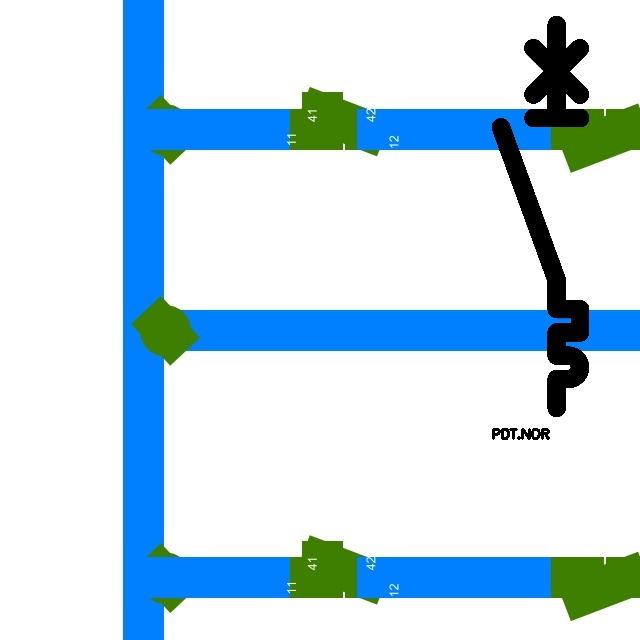interruptor_termomagnetico: (491, 15, 590, 418)
